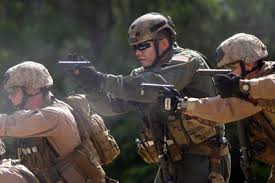gun: (55, 58, 96, 77), (136, 80, 178, 97), (193, 66, 232, 76)
helmet: (213, 31, 270, 68), (125, 11, 178, 47), (1, 60, 56, 92)
